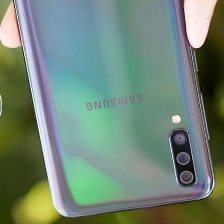phone: (0, 0, 216, 223)
